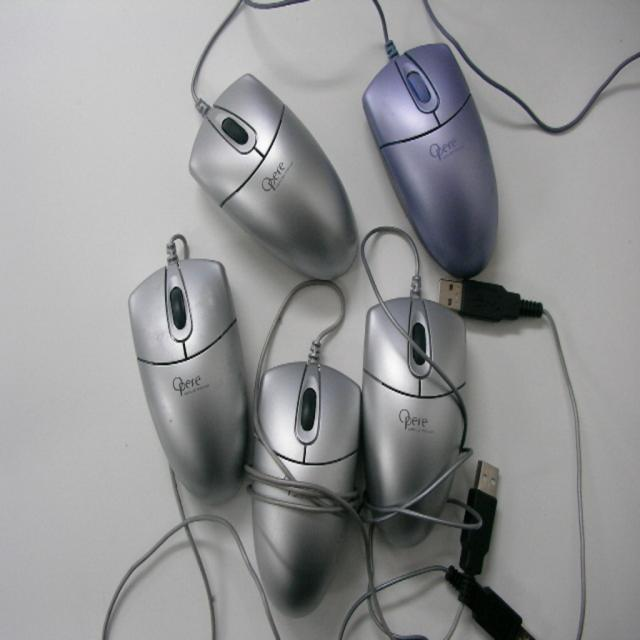Computer-mouse: (187, 71, 360, 284), (360, 41, 497, 283), (126, 260, 252, 507), (360, 292, 469, 553), (251, 360, 361, 617)
